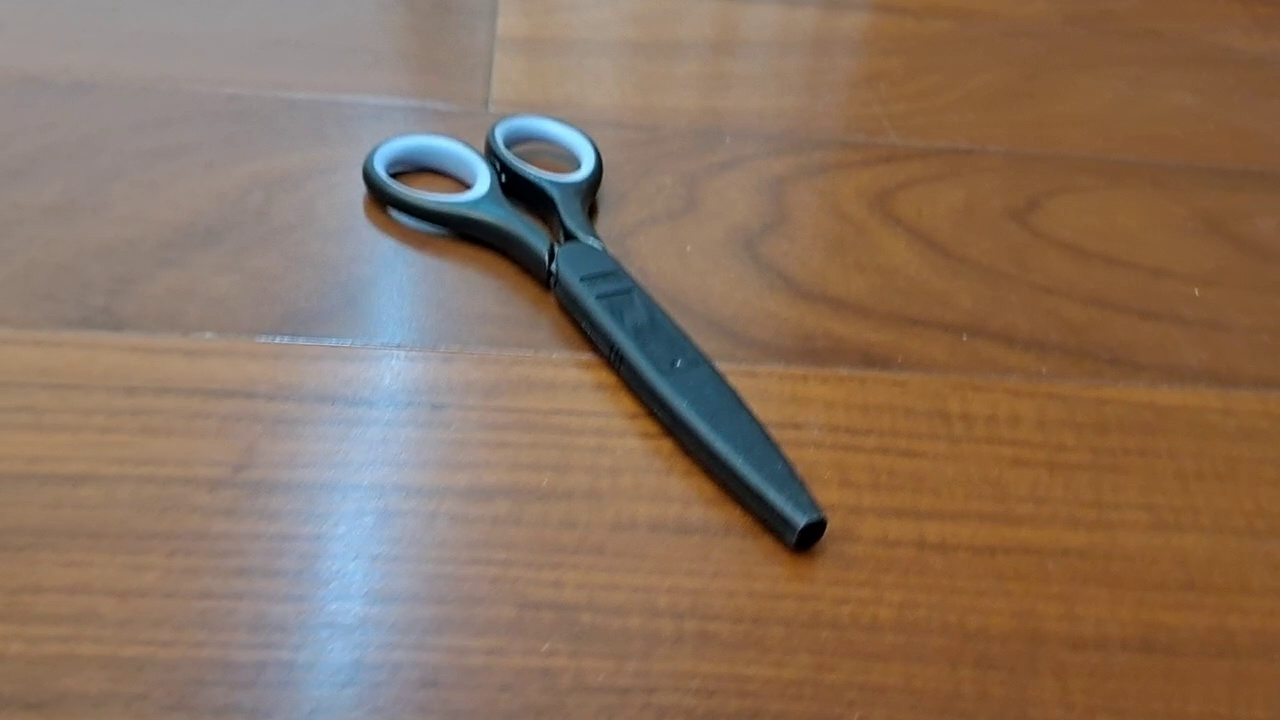scissors: (361, 112, 828, 554)
